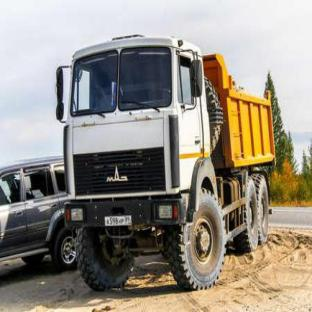Vehicle: (38, 15, 287, 287)
